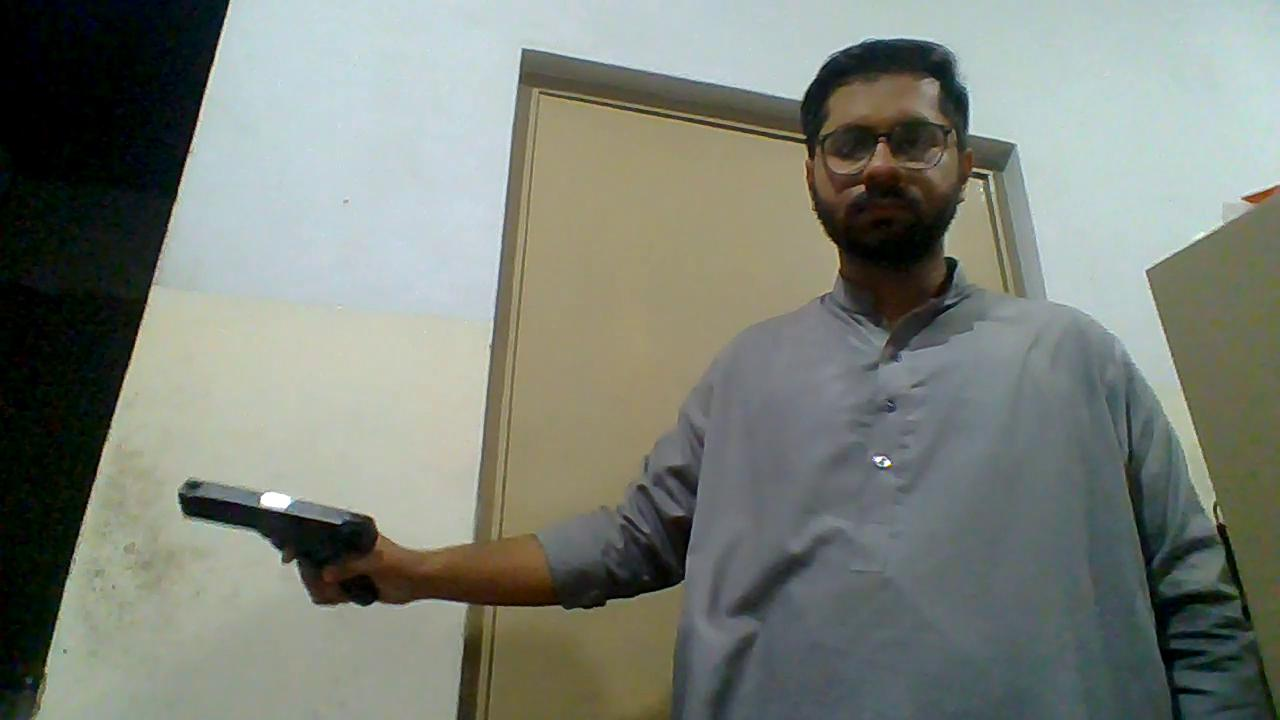criminal: (179, 36, 1267, 720)
weapon: (177, 476, 382, 610)
